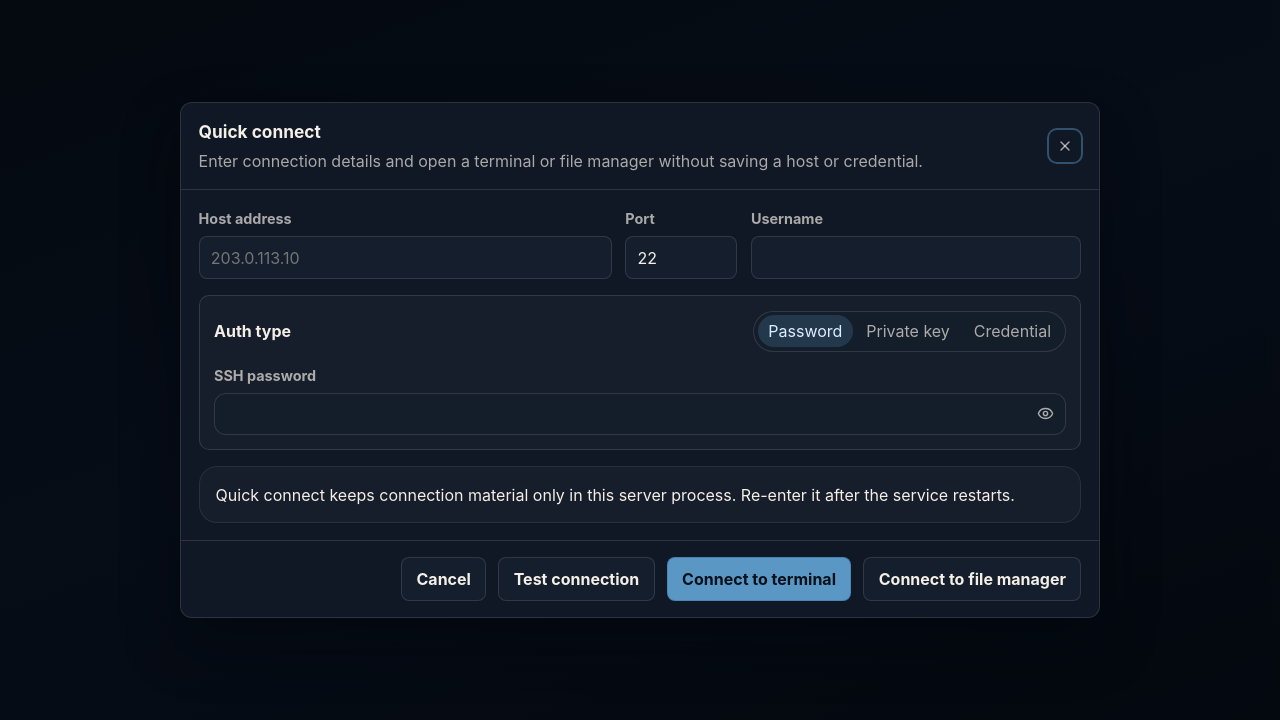
Test: TemporaryQuickConnectDialog › shows temporary connect failures through toast only
Type "203.0.113.227" into the field labelled "Host address" at (405, 258), box [199,236,612,280]
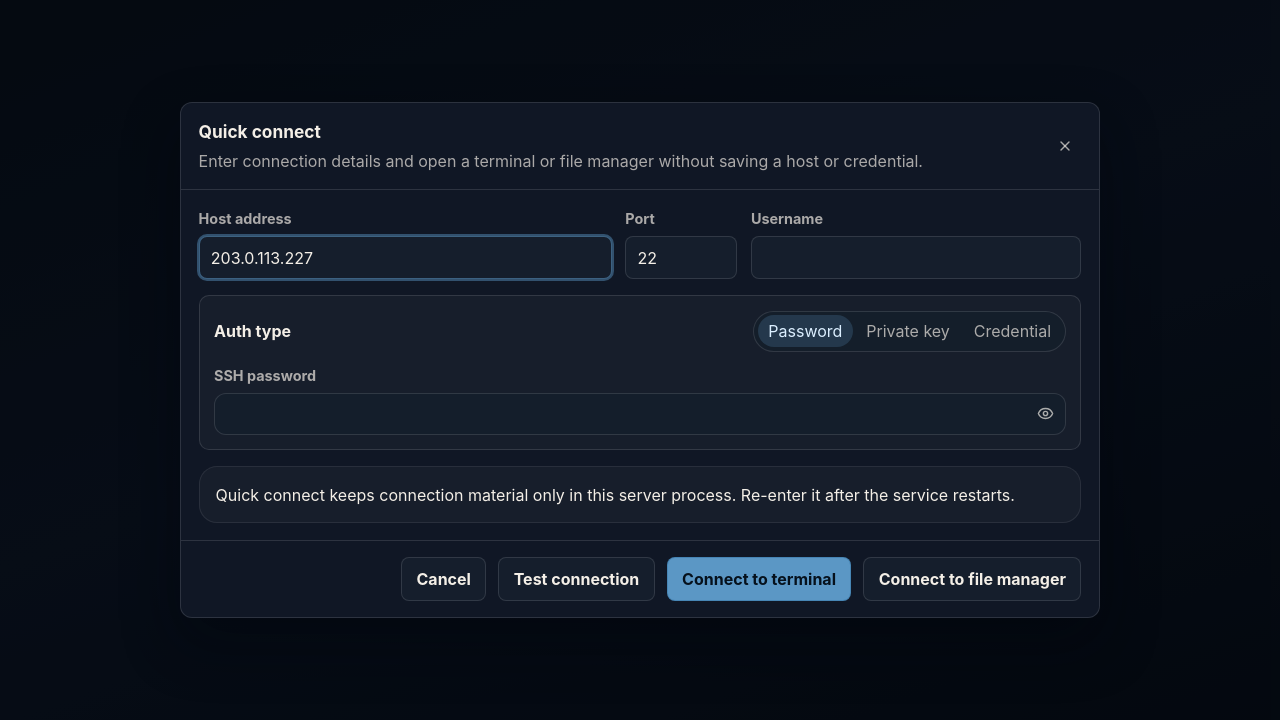
Type "gyl" into the field labelled "Username" at (916, 258), box [751,236,1081,280]
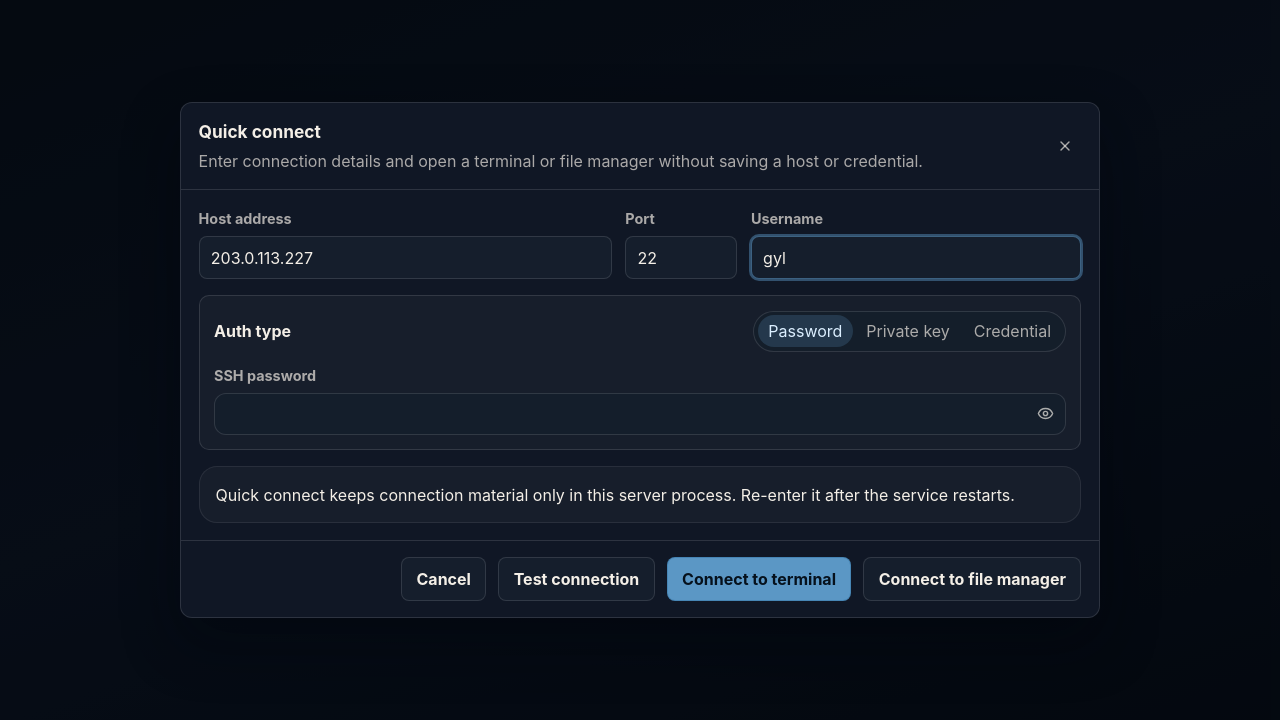
Type "wrong-password" into the password field labelled "SSH password" at (620, 414), box [215,394,1025,434]
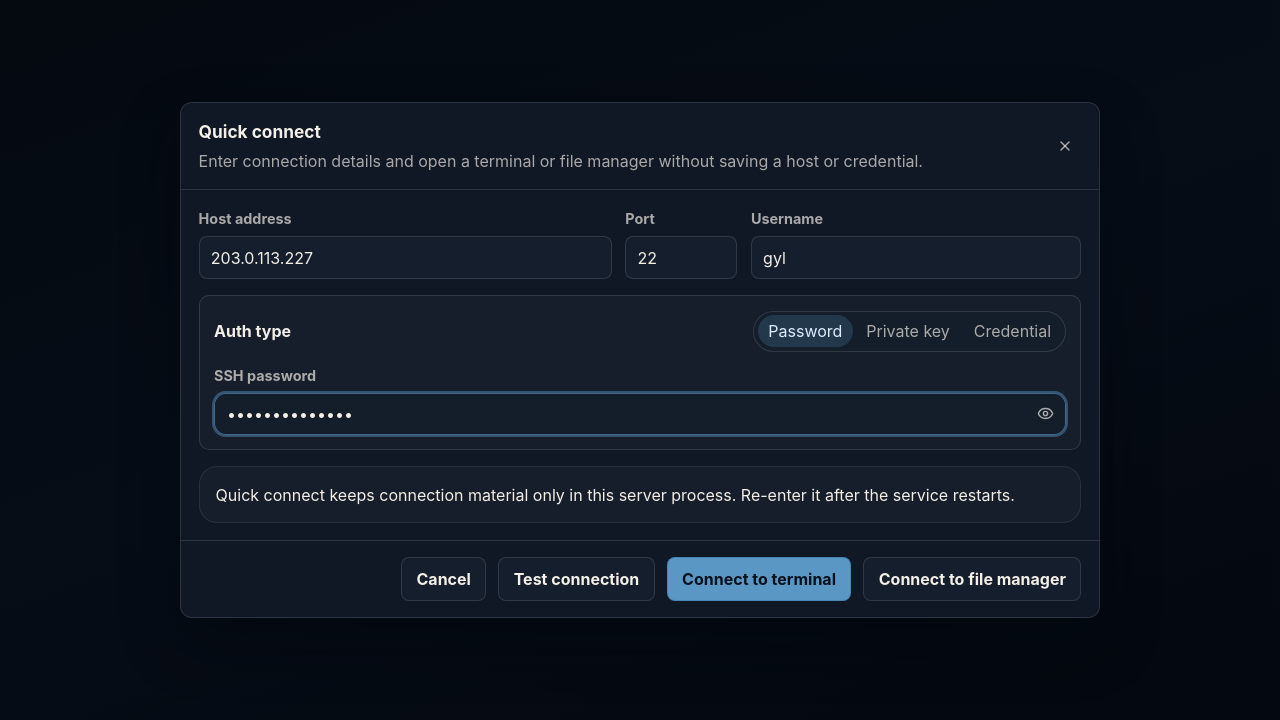
Click the button "Connect to terminal" at (759, 579), box [667,557,851,601]
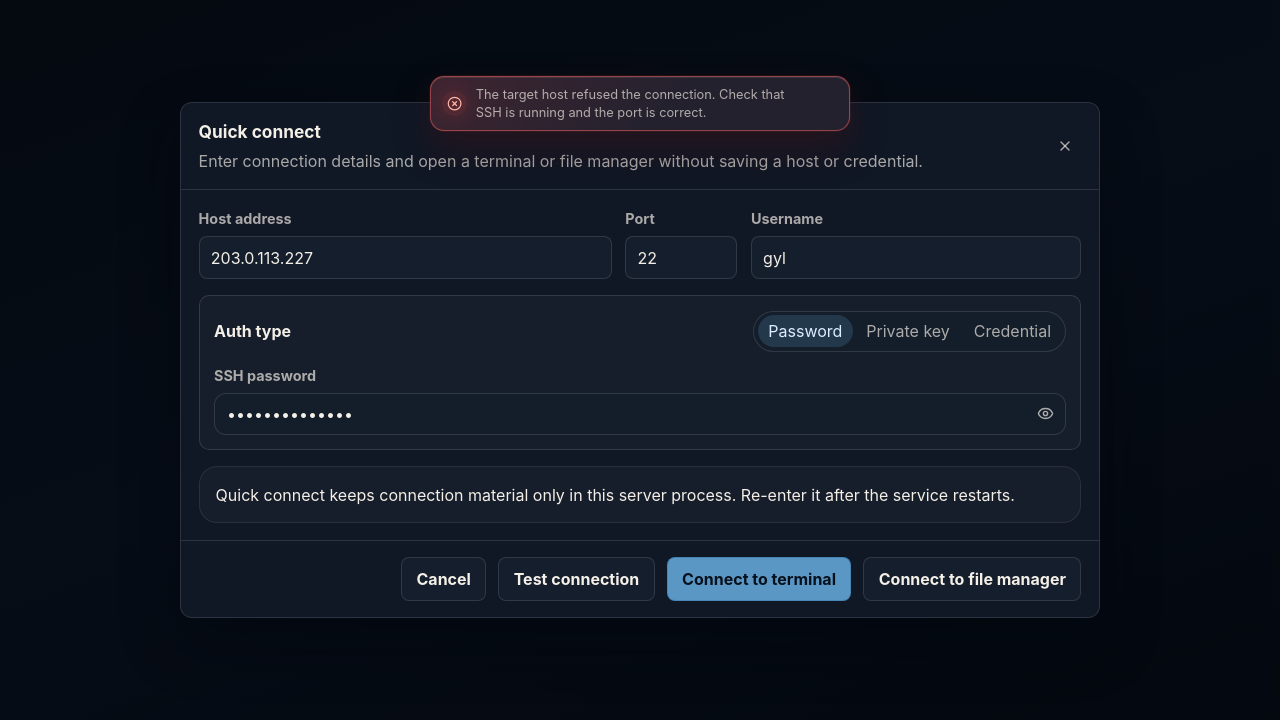
Now the text "The target host refused the connection. Check that SSH is running and the port is correct." is shown, box [476,87,785,120]
